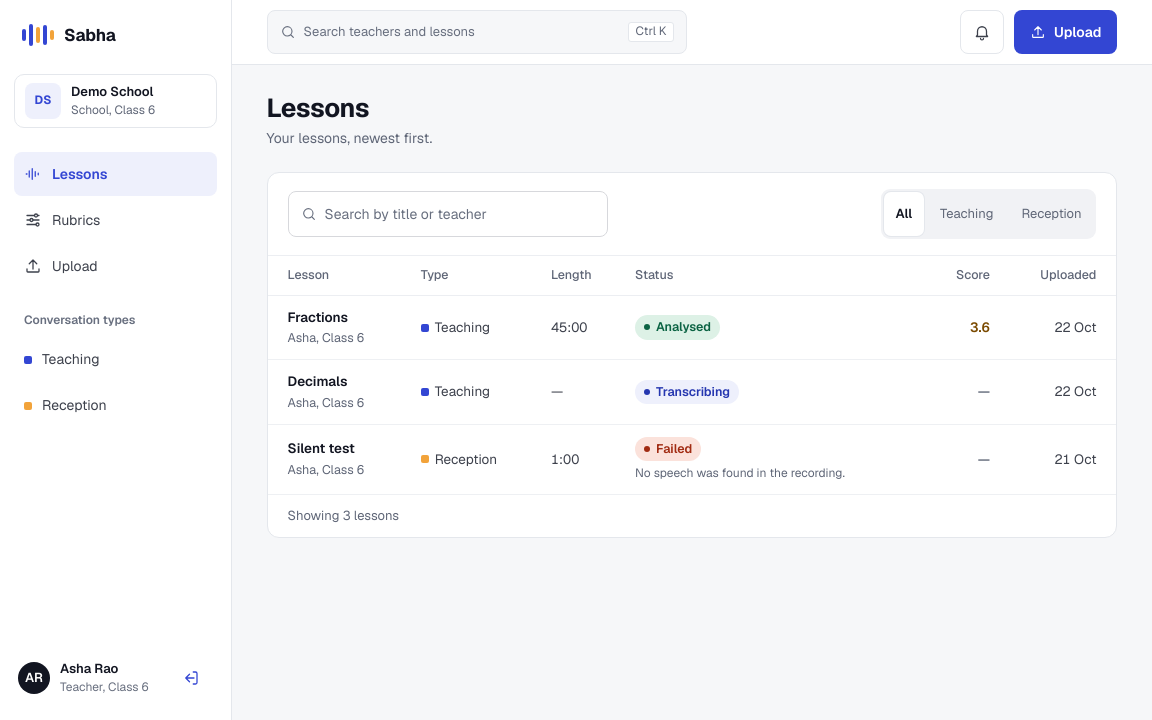
Test: the list's filters › offers to clear filters that match nothing
The image size is (1152, 720).
Type "zzz" into the search field named "Search lessons".
click(460, 214); type("zzz")  # box [324,192,594,236]
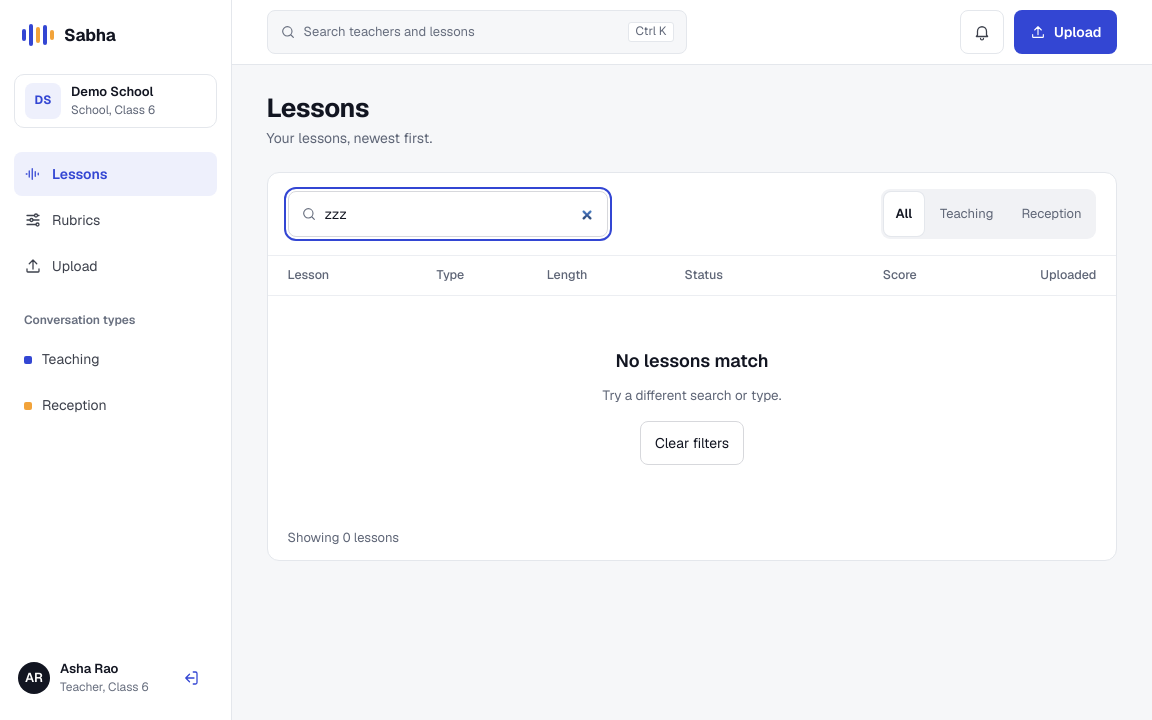
Click the button "Clear filters".
click(692, 443)  # box [640,421,744,465]
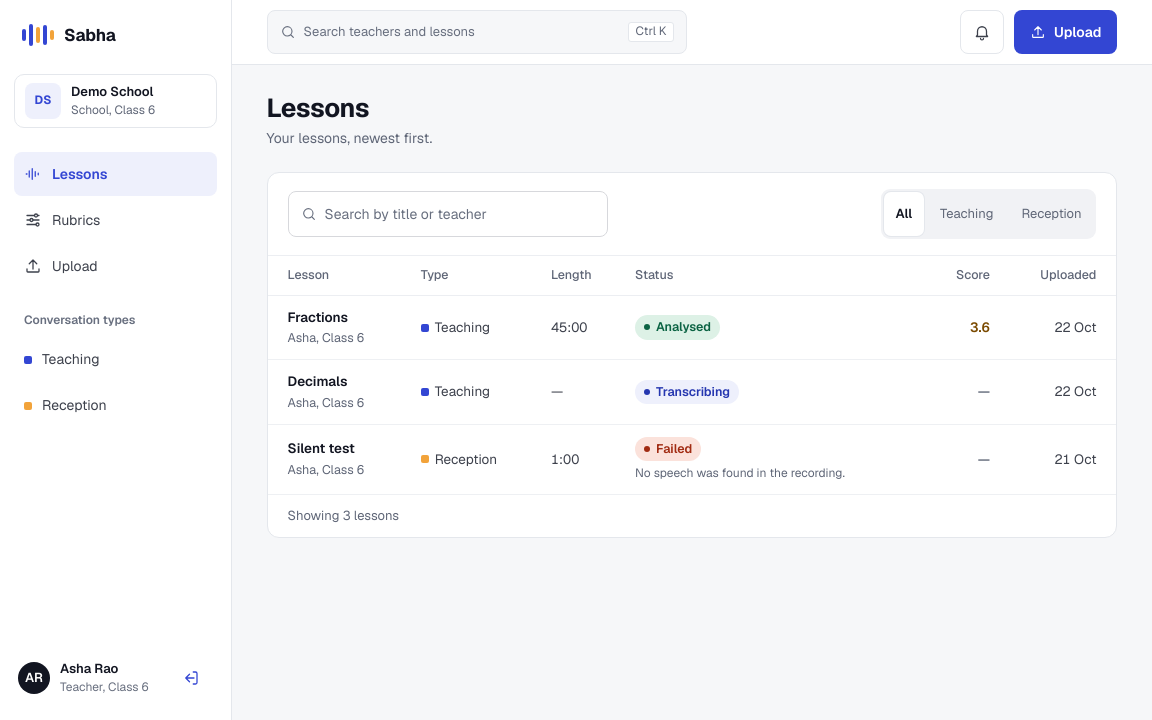
Expected: the link "Fractions" is shown, [288,308,348,326]
